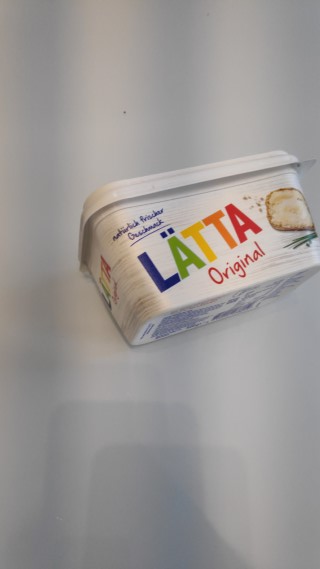laetta: (75, 148, 320, 348)
